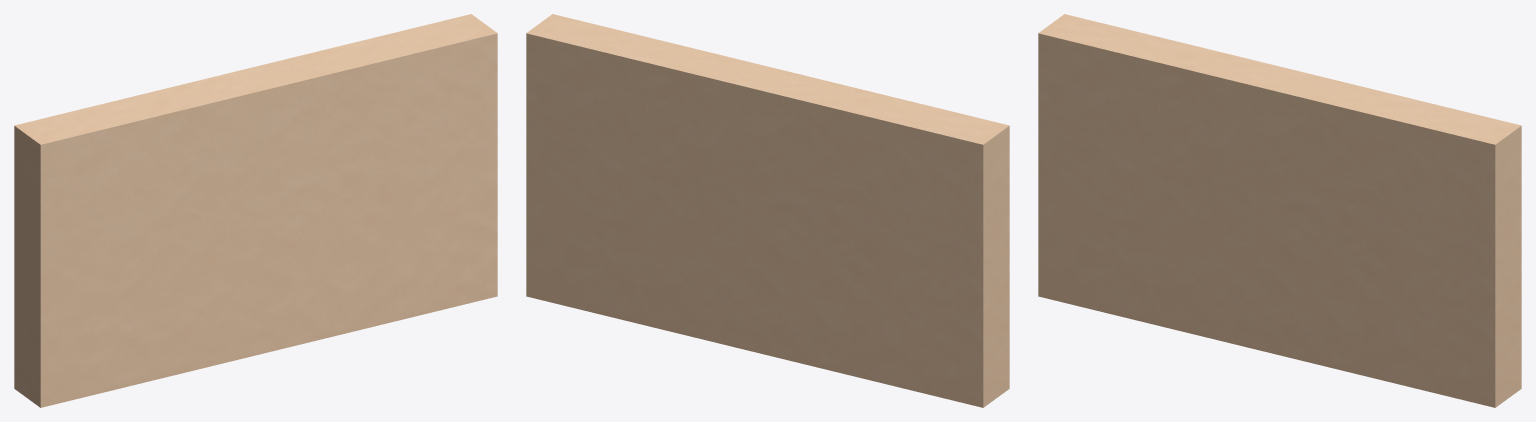
The model's file is Wall_DoorLintel_1m.fbx.
3 views of the same model, side by side, from view 1: azimuth 30°, elevation 25°; view 2: azimuth 150°, elevation 25°; view 3: azimuth 330°, elevation 25° (orthographic).
Parts seen in each view (by area): view 1: Wall_DoorLintel_1m; view 2: Wall_DoorLintel_1m; view 3: Wall_DoorLintel_1m.
Part boxes in pixels (<box>): Wall_DoorLintel_1m: <box>14,14,497,407</box>; Wall_DoorLintel_1m: <box>526,14,1009,407</box>; Wall_DoorLintel_1m: <box>1038,14,1521,407</box>.
Size of the model in its own units: 1 by 0.55 by 0.1.
1 material, 1 textured.
